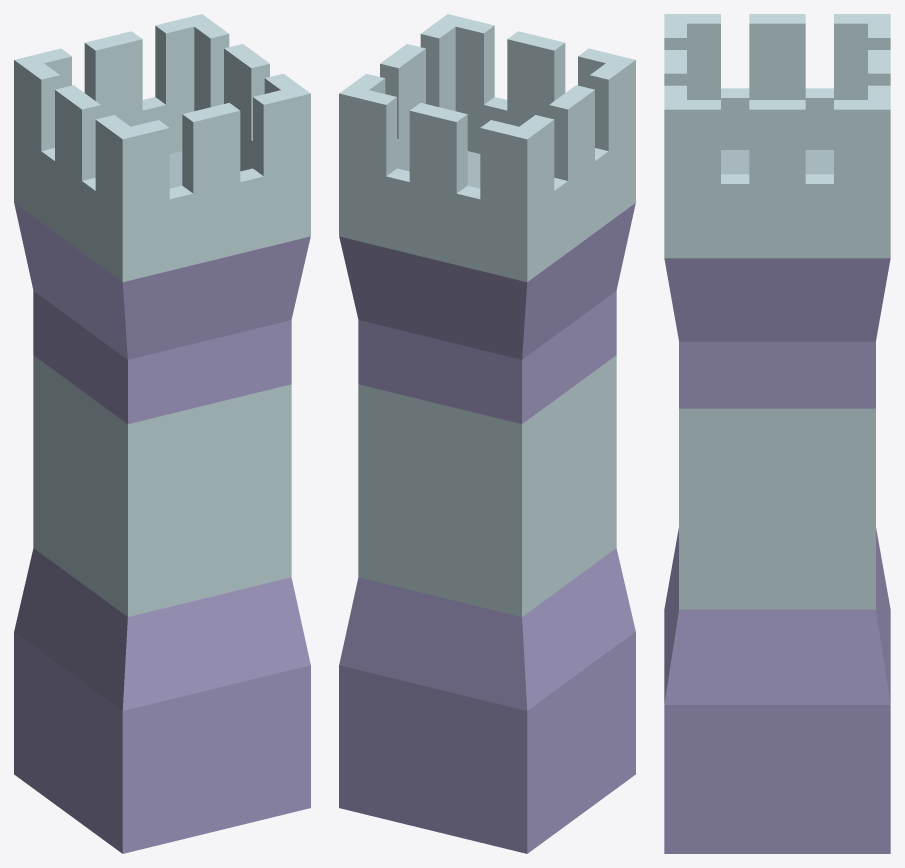
File: tower_tall.glb
The picture shows the model from 3 angles, left to right: view 1: azimuth 30°, elevation 25°; view 2: azimuth 150°, elevation 25°; view 3: azimuth 270°, elevation 25°; orthographic projection. The views are drawn at different scales.
Visible parts, largest first — view 1: towerSquare_sampleA; view 2: towerSquare_sampleA; view 3: towerSquare_sampleA.
Boxes of the visible parts, x1,y1,x2,y2 form: towerSquare_sampleA: (14, 14, 310, 853); towerSquare_sampleA: (339, 14, 635, 853); towerSquare_sampleA: (664, 14, 890, 853).
Size of the model in its own units: 0.7267 by 2.64 by 0.7267.
